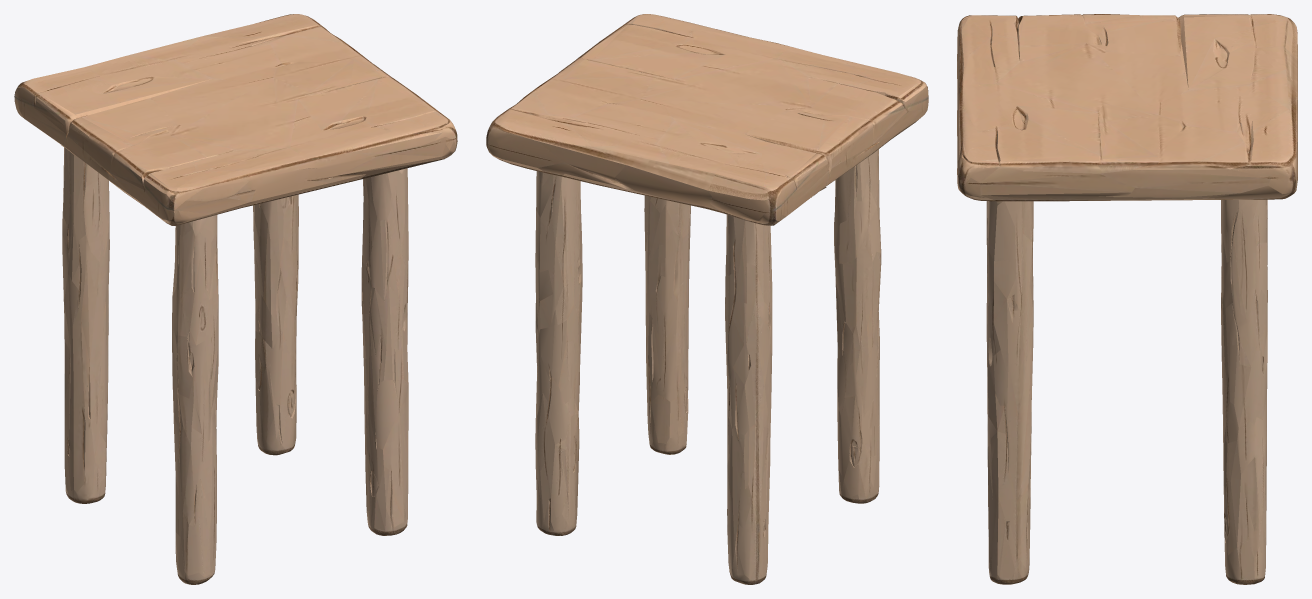
Rendered from shelf_stool_1.glb.
The picture shows the model from 3 angles, left to right: view 1: azimuth 30°, elevation 25°; view 2: azimuth 150°, elevation 25°; view 3: azimuth 270°, elevation 25°; orthographic projection. The views are drawn at different scales.
Size of the model in its own units: 1.41 by 1.9 by 1.32.
1 material, 1 textured.
